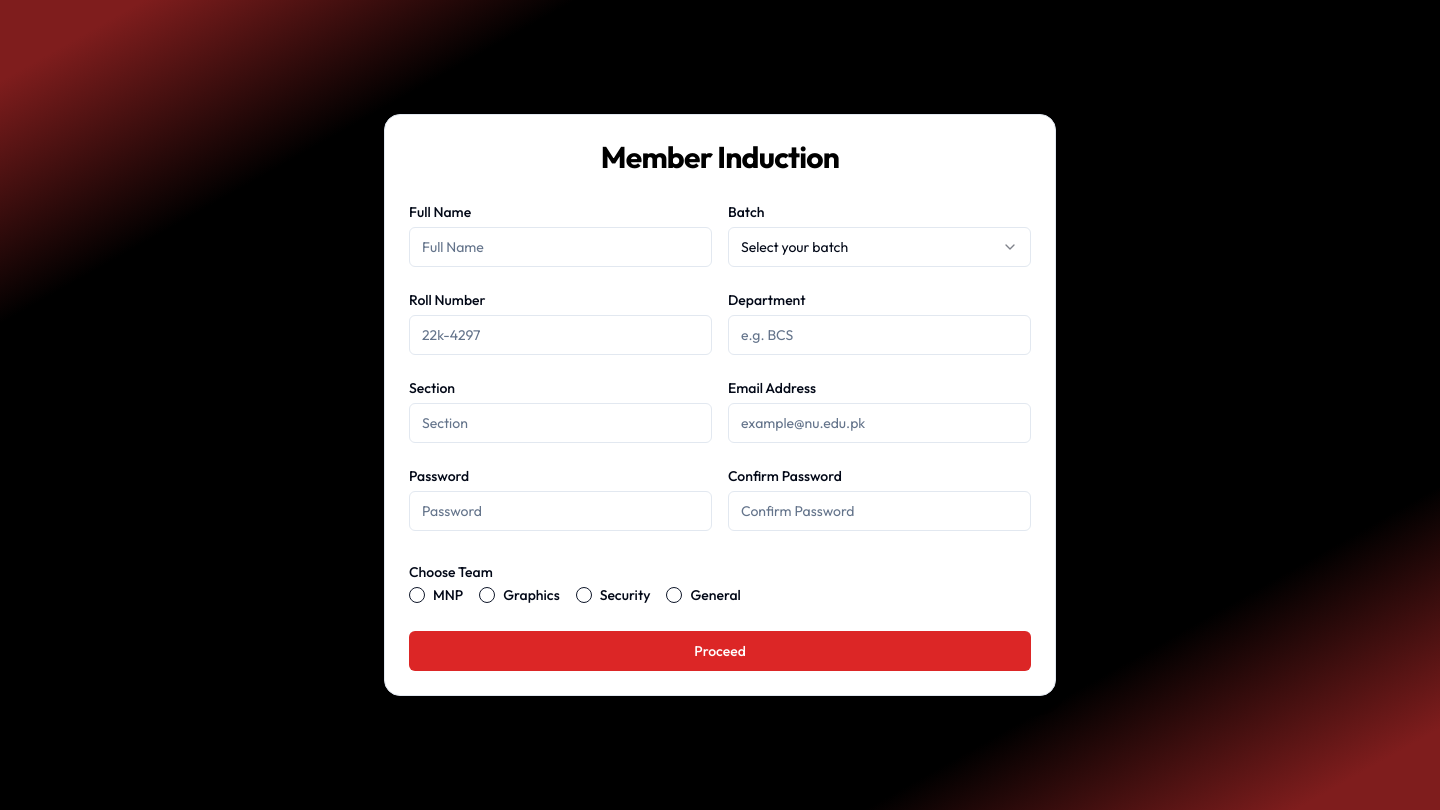
Test: Register Form Validation › should show error for invalid roll number format
In the field with placeholder "22k-4297": (560, 335) [409, 315, 712, 355], type "invalid"
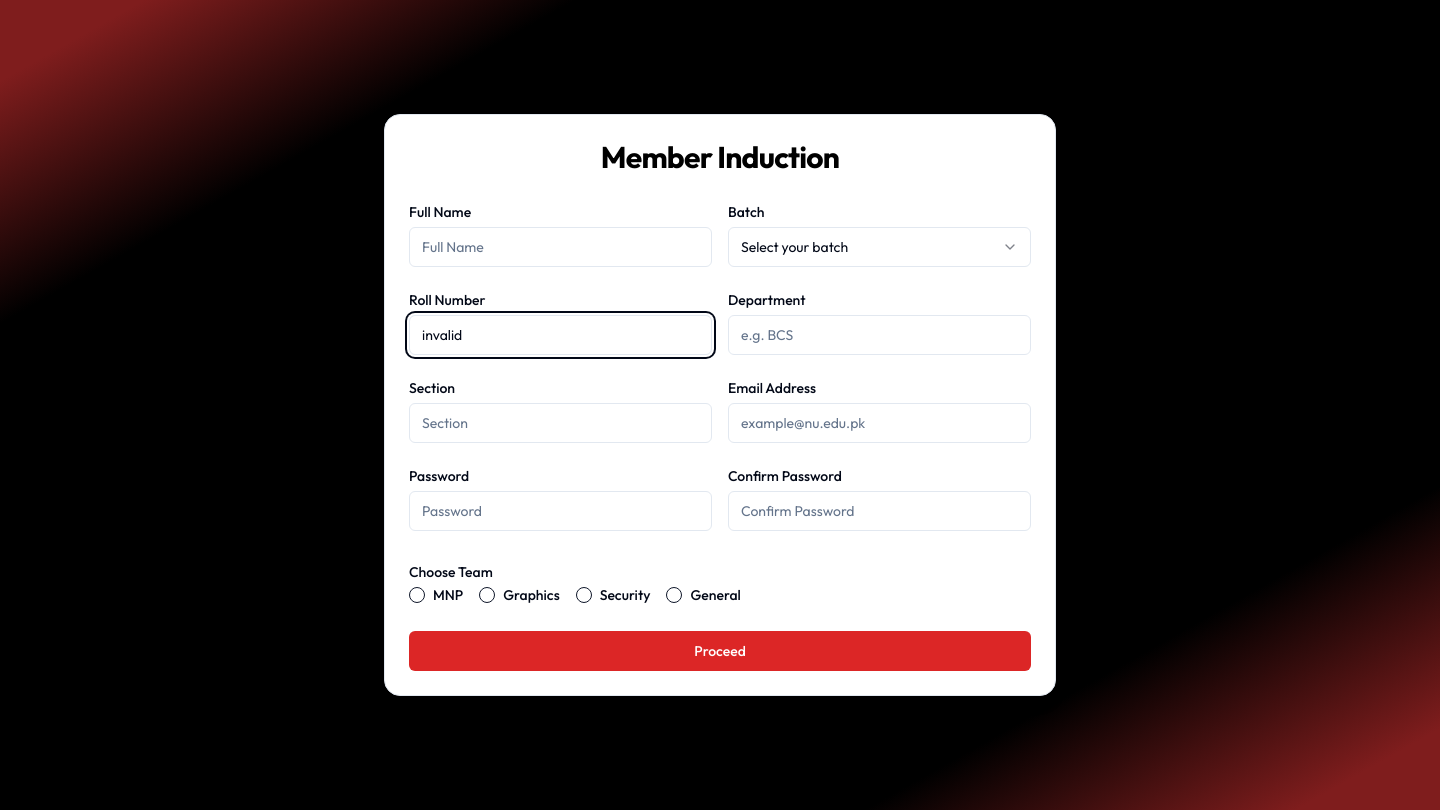
Click the button "Proceed": (720, 651) [409, 631, 1031, 671]
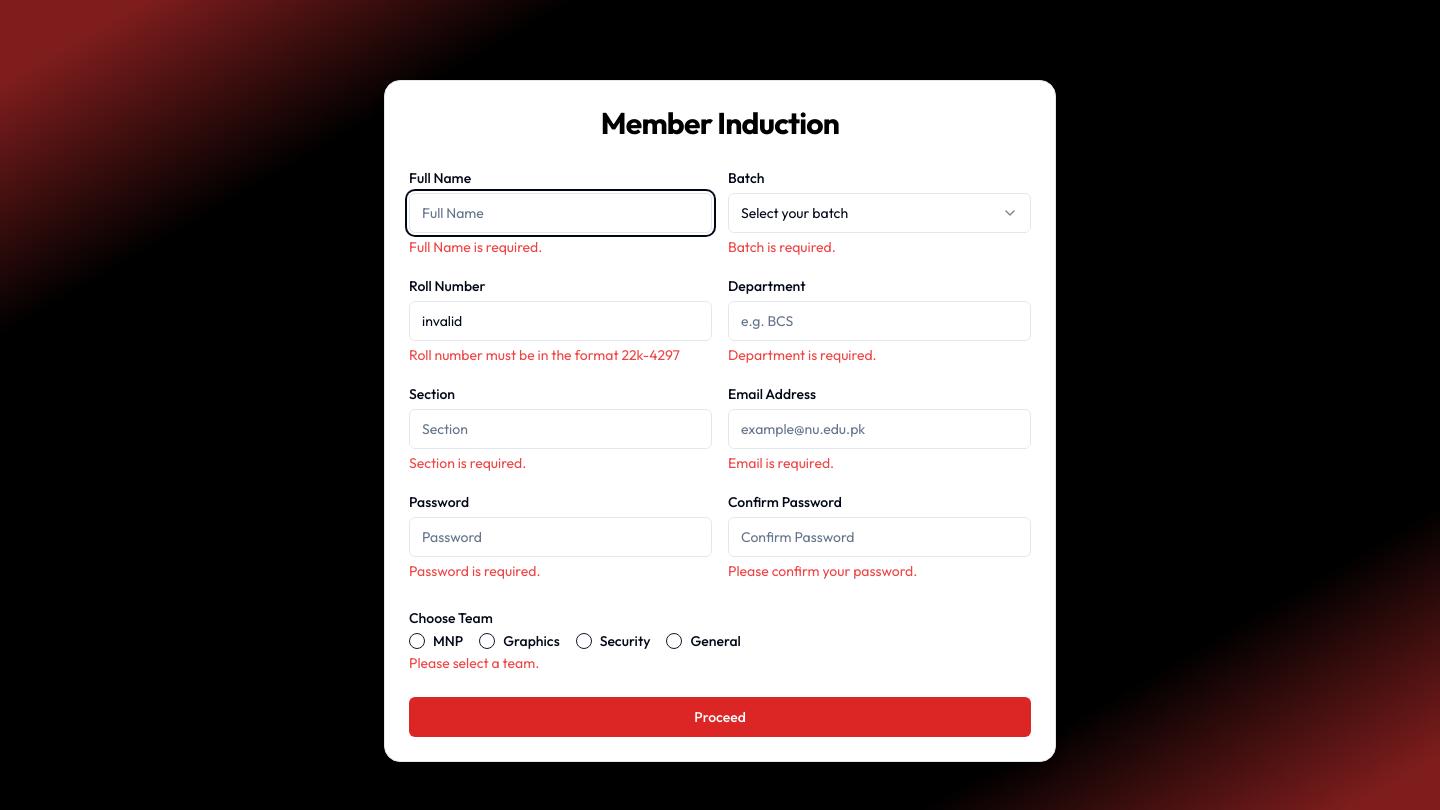
Now the text "Roll number must be in the format 22k-4297" is shown, box [409, 345, 712, 365]
